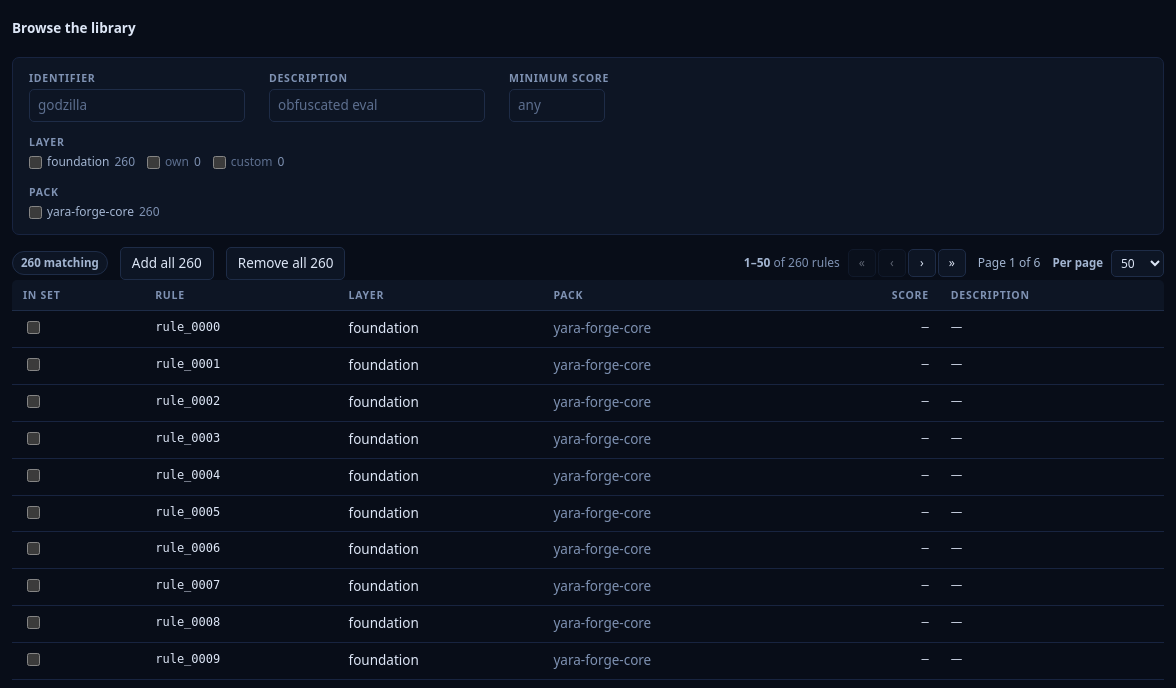
Test case: the tail of a long result is reachable by paging to it
The width and height of the screenshot is (1176, 688).
Check: the text "rule_0259" is not shown
Click the button named "last page". click: click(952, 263)
box: [938, 249, 966, 278]
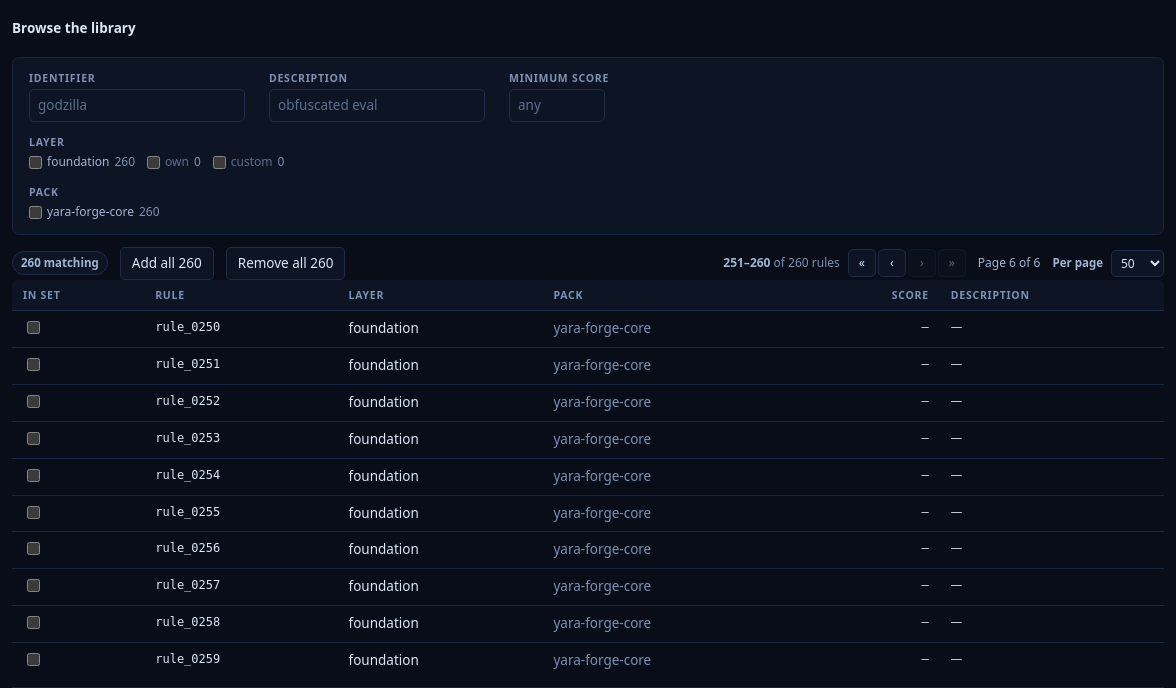
Check: the text "rule_0259" is shown, box [144, 643, 338, 679]
